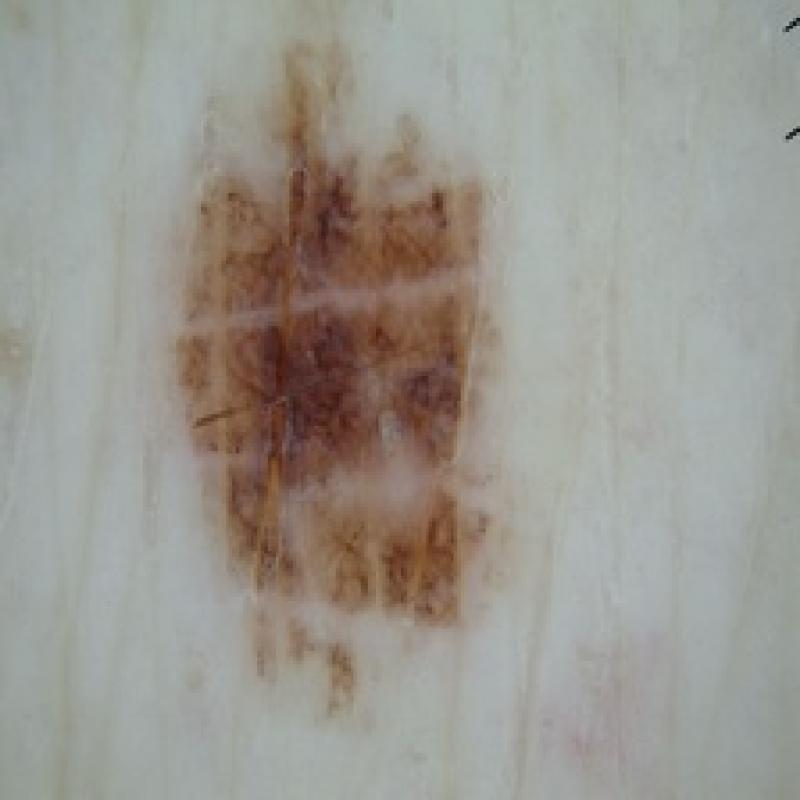malignant: (122, 31, 591, 747)
